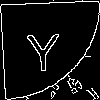Y: (25, 25, 61, 72)
